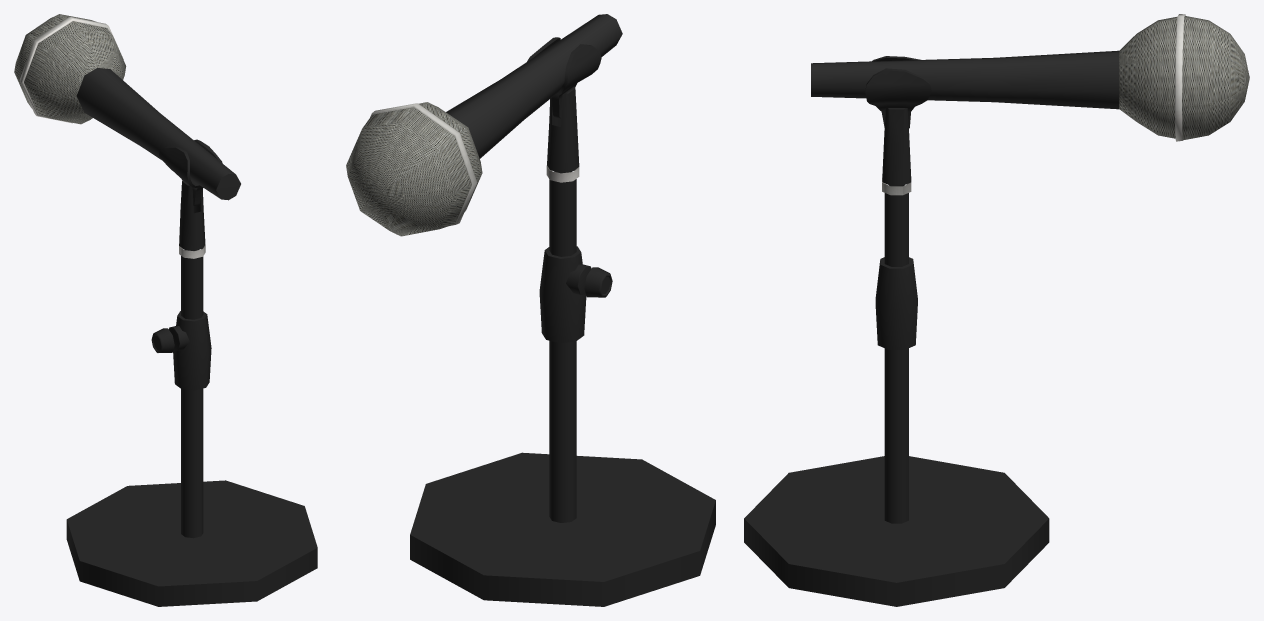
The model's file is Microphone.fbx.
The picture shows the model from 3 angles, left to right: view 1: azimuth 30°, elevation 25°; view 2: azimuth 150°, elevation 25°; view 3: azimuth 270°, elevation 25°; orthographic projection. The views are drawn at different scales.
Visible parts, largest first — view 1: stand_mesh, mike, rotate_mike_point; view 2: stand_mesh, mike, rotate_mike_point; view 3: stand_mesh, mike, rotate_mike_point.
Part boxes in pixels (x1=…): stand_mesh: x1=66, y1=180, x2=317, y2=606; mike: x1=14, y1=14, x2=240, y2=200; rotate_mike_point: x1=159, y1=139, x2=222, y2=205; stand_mesh: x1=410, y1=86, x2=715, y2=606; mike: x1=346, y1=14, x2=622, y2=236; rotate_mike_point: x1=527, y1=37, x2=601, y2=118; stand_mesh: x1=744, y1=108, x2=1049, y2=606; mike: x1=811, y1=14, x2=1249, y2=141; rotate_mike_point: x1=865, y1=56, x2=931, y2=128.
Size of the model in its own units: 11.5 by 21.87 by 19.05.
Materials: 1 (1 with a texture image).
